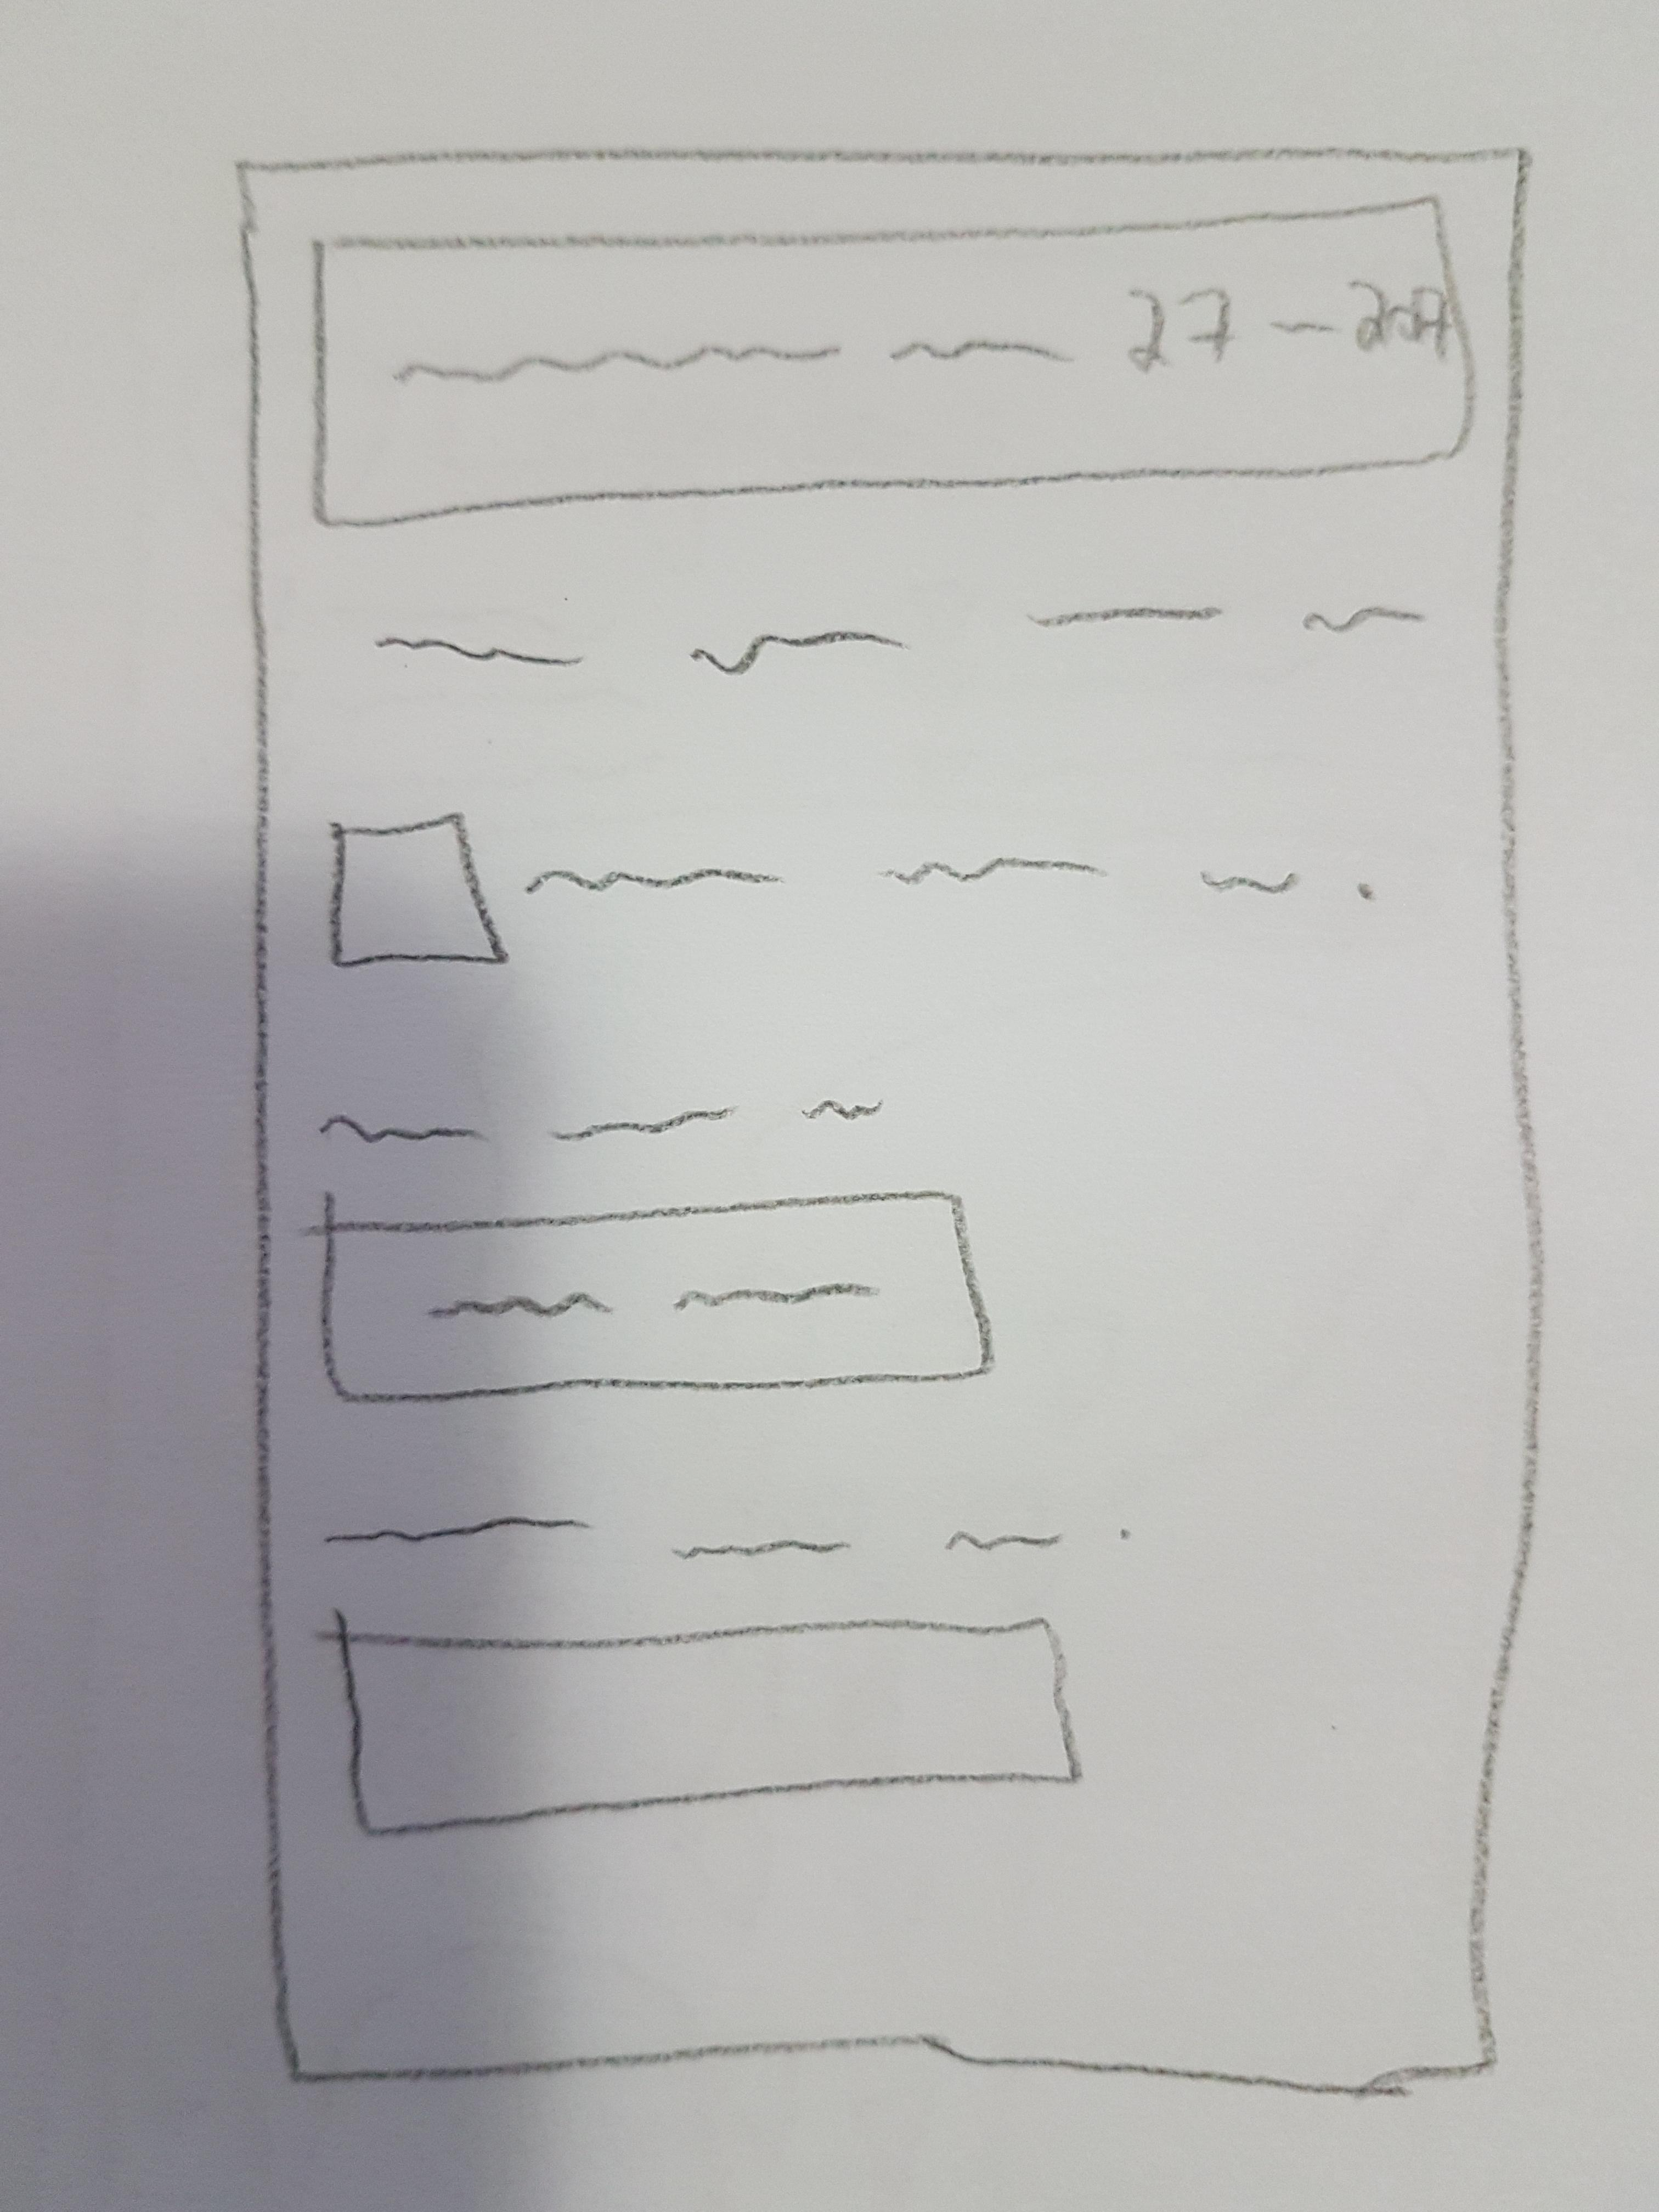Button: (315, 193, 1478, 536)
CheckBox: (328, 805, 1389, 974)
Label: (368, 589, 1439, 683), (319, 1514, 1140, 1557), (317, 1097, 894, 1153)
Screen: (249, 146, 1544, 2083)
TextBox: (336, 1615, 1084, 1836), (322, 1191, 990, 1406)
